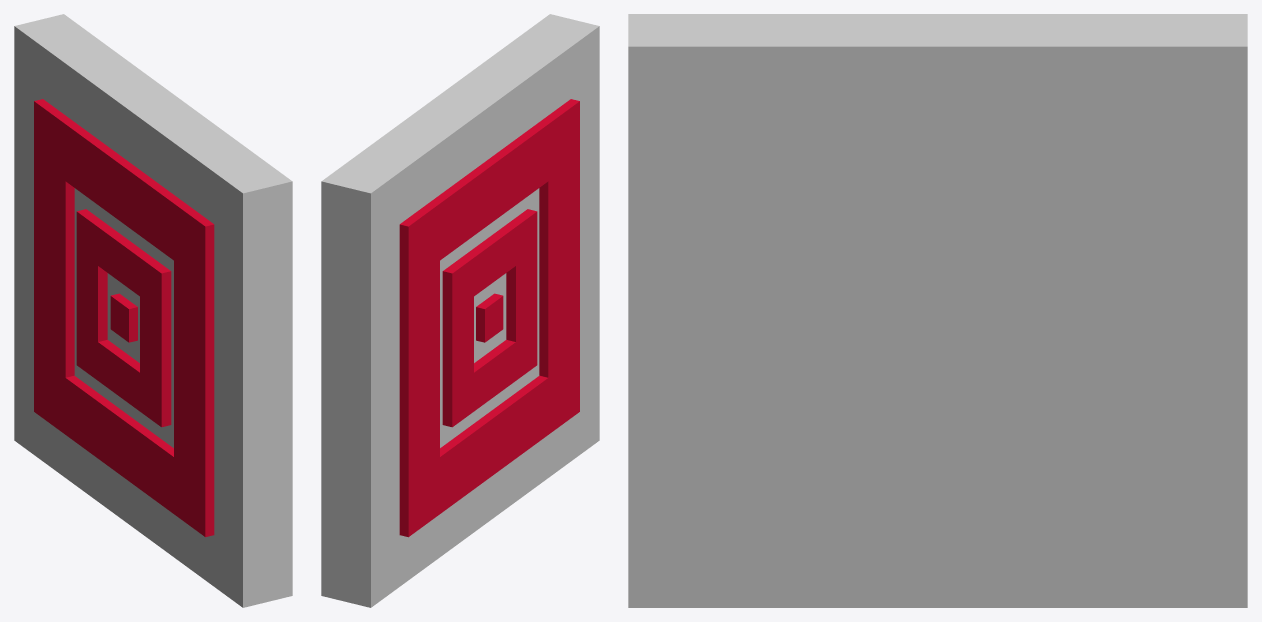
The model's file is NEWsquaretargetFBX.fbx.
3 renders of one model, left to right at view 1: azimuth 30°, elevation 25°; view 2: azimuth 150°, elevation 25°; view 3: azimuth 270°, elevation 25°, orthographic. The views are drawn at different scales.
Visible parts, largest first — view 1: Cube; view 2: Cube; view 3: Cube.
Boxes of the visible parts, x1,y1,x2,y2 form: Cube: [14, 14, 292, 607]; Cube: [321, 14, 599, 607]; Cube: [628, 14, 1247, 607].
Bounding box in the file's own units: 29.87 × 200 × 200.
